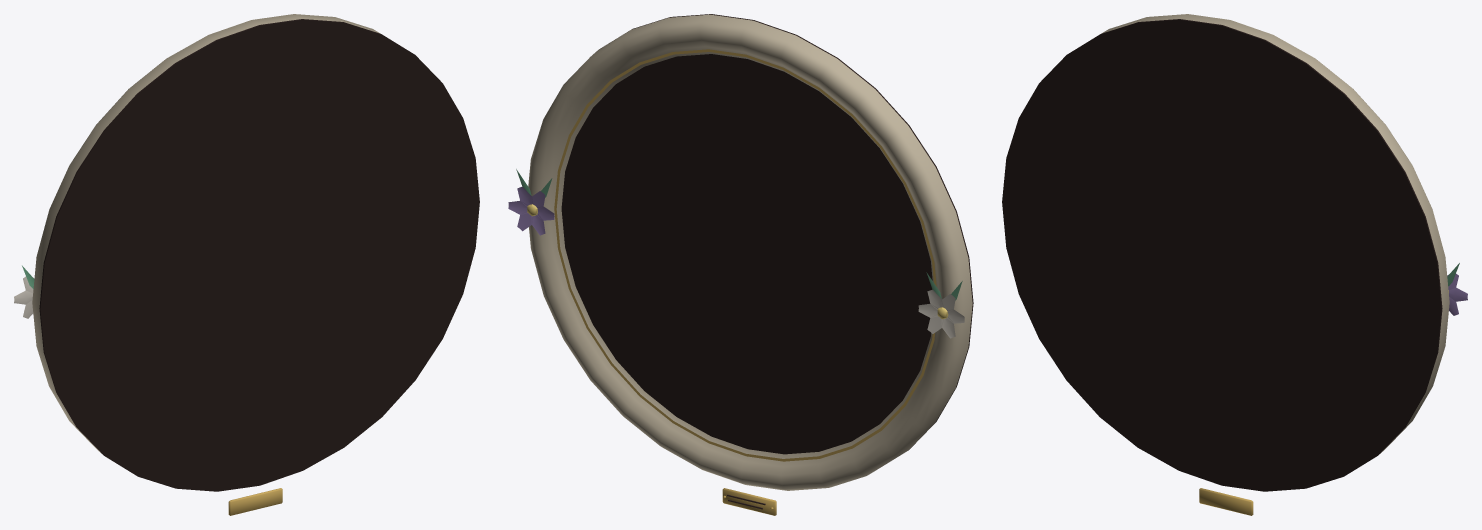
The model's file is crocus_spring_round.glb.
The picture shows the model from 3 angles, left to right: view 1: azimuth 30°, elevation 25°; view 2: azimuth 150°, elevation 25°; view 3: azimuth 330°, elevation 25°; orthographic projection.
Visible parts, largest first — view 1: crocus_spring_round; view 2: crocus_spring_round; view 3: crocus_spring_round.
Part boxes in pixels (x1=…): crocus_spring_round: x1=14, y1=14, x2=479, y2=515; crocus_spring_round: x1=508, y1=14, x2=973, y2=515; crocus_spring_round: x1=1002, y1=14, x2=1467, y2=515.
Size of what is drawn, in the model's own units: 1.19 by 1.22 by 0.0831.
